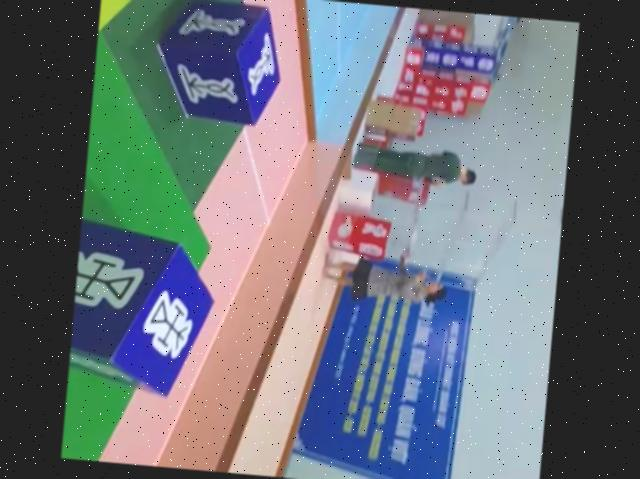R2 Real Blue: (67, 213, 221, 397), (150, 0, 286, 125)
